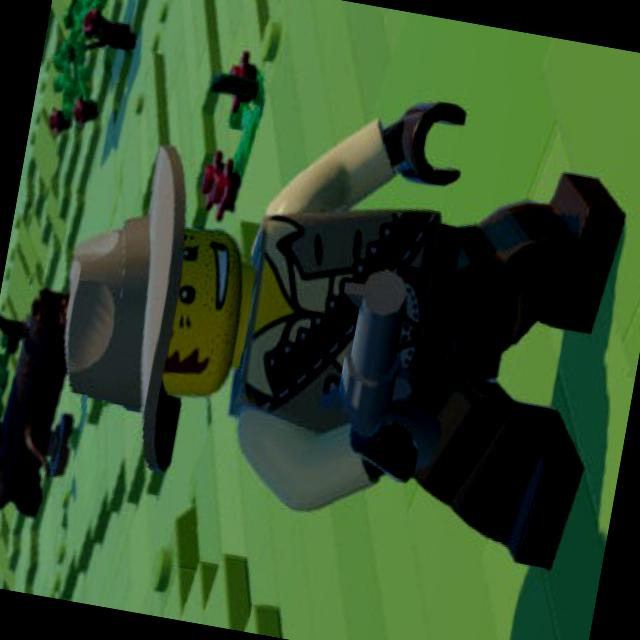handgun: (304, 264, 459, 482)
